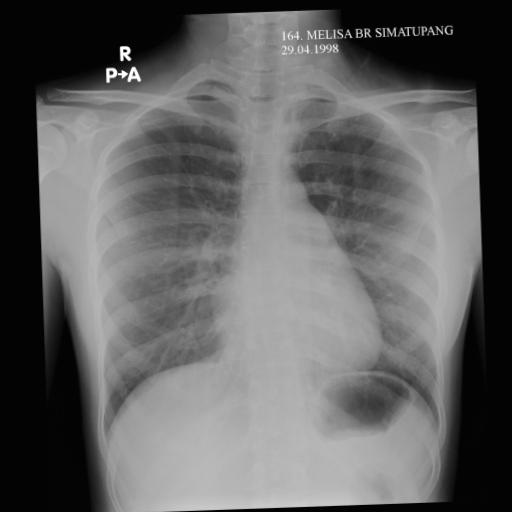normal: (80, 68, 448, 434)
